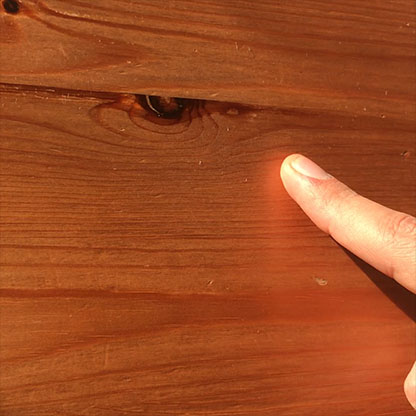fingertip: (266, 141, 340, 205)
